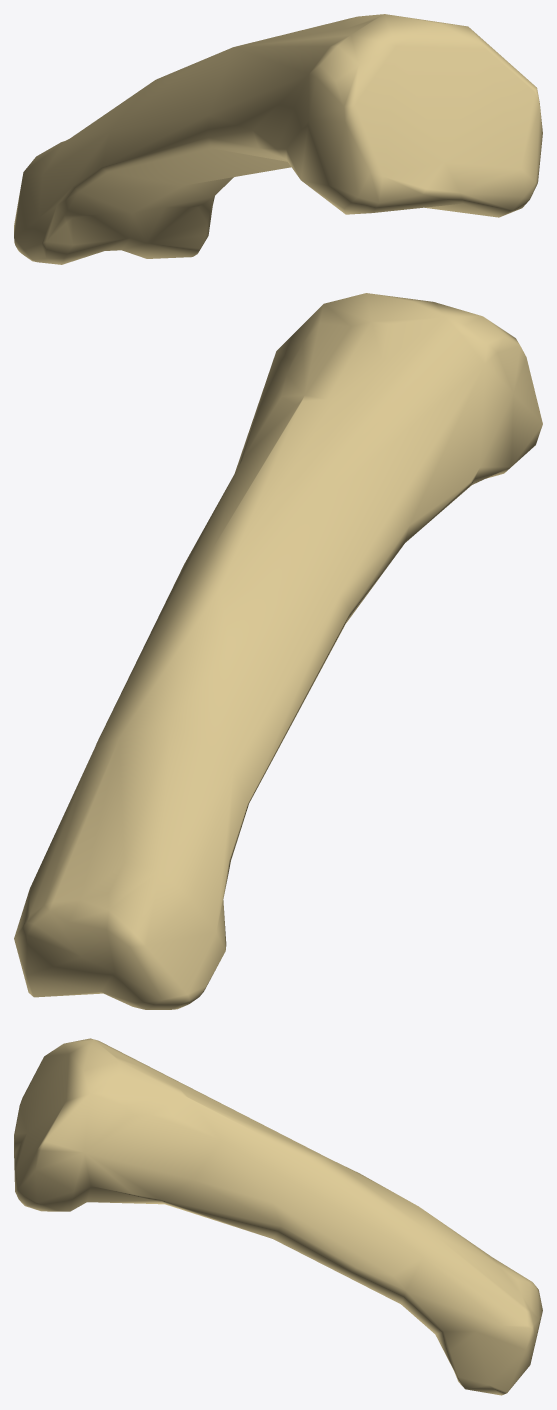
The picture shows the model from 3 angles, top to bottom: view 1: azimuth 30°, elevation 25°; view 2: azimuth 150°, elevation 25°; view 3: azimuth 270°, elevation 25°; orthographic projection. The views are drawn at different scales.
Visible parts, largest first — view 1: 右侧第四指近节指骨; view 2: 右侧第四指近节指骨; view 3: 右侧第四指近节指骨.
Part boxes in pixels (x1,y1,x2,y2): 右侧第四指近节指骨: (14, 14, 542, 264); 右侧第四指近节指骨: (14, 293, 542, 1009); 右侧第四指近节指骨: (14, 1038, 542, 1395).
Size of the model in its own units: 0.0206 by 0.0402 by 0.0596.
